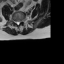CCS_normal: (17, 20, 18, 26)
LFS_stenosis: (20, 19, 21, 23)
LLS_normal: (18, 20, 20, 25)
RFS_normal: (14, 19, 16, 24)
RLS_normal: (15, 19, 17, 25)
